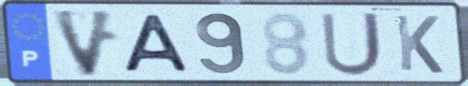8: (261, 10, 312, 78)
9: (192, 11, 249, 77)
A: (118, 13, 194, 75)
K: (392, 13, 447, 76)
U: (317, 10, 386, 79)
V: (48, 7, 119, 80)
